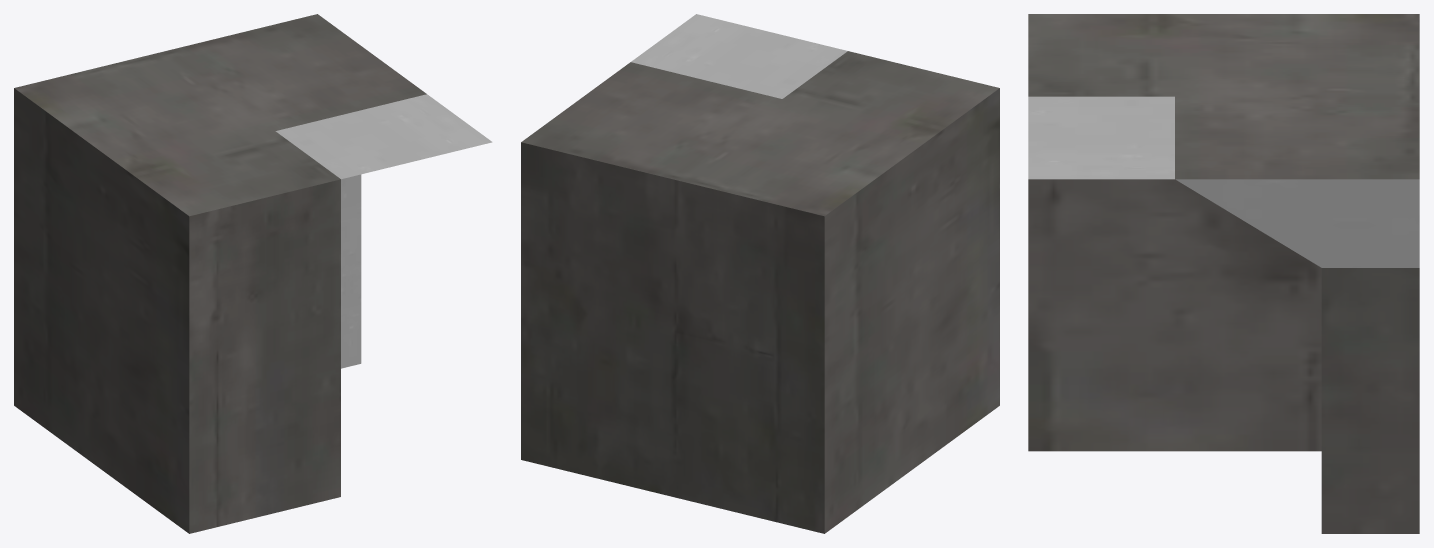
File: flush_ceiling.glb
3 views of the same model, side by side, from view 1: azimuth 30°, elevation 25°; view 2: azimuth 150°, elevation 25°; view 3: azimuth 270°, elevation 25° (orthographic). The views are drawn at different scales.
Visible parts, largest first — view 1: flush.ceiling; view 2: flush.ceiling; view 3: flush.ceiling.
Part boxes in pixels (bbox=[...]): flush.ceiling: bbox=[14, 14, 492, 533]; flush.ceiling: bbox=[521, 14, 999, 533]; flush.ceiling: bbox=[1028, 14, 1419, 533].
Size of the model in its own units: 0.5 by 0.5 by 0.5.
Materials: 2 (2 with a texture image).
